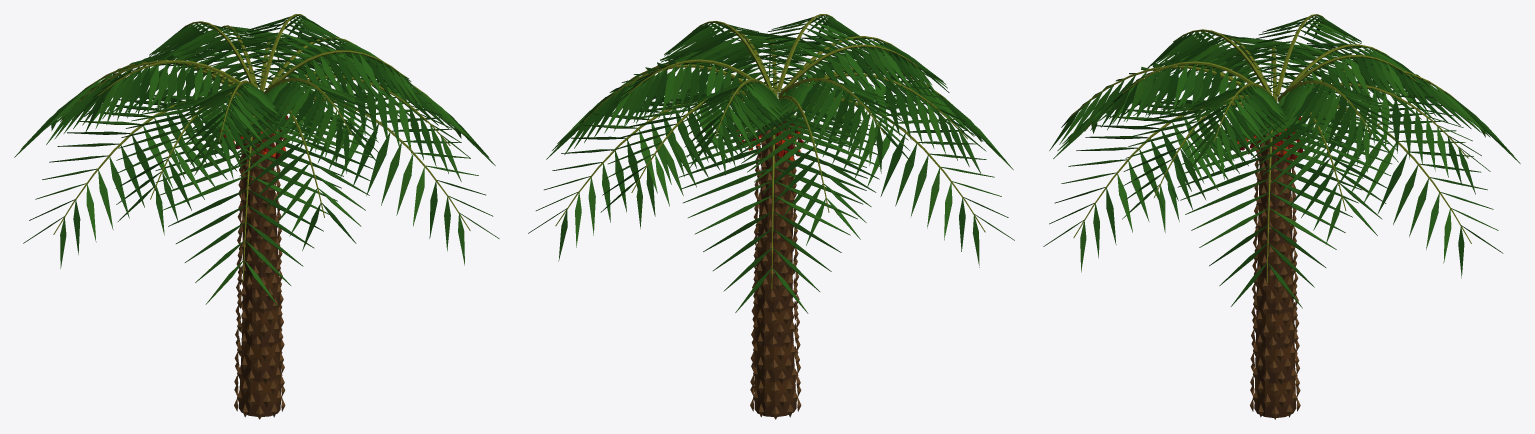
Rendered from palm.dae.
The picture shows the model from 3 angles, left to right: view 1: azimuth 30°, elevation 25°; view 2: azimuth 150°, elevation 25°; view 3: azimuth 270°, elevation 25°; orthographic projection.
Parts seen in each view (by area): view 1: mesh-node; view 2: mesh-node; view 3: mesh-node.
Boxes of the visible parts, x1,y1,x2,y2 form: mesh-node: (14, 14, 499, 419); mesh-node: (528, 14, 1014, 419); mesh-node: (1043, 14, 1520, 419).
Size of the model in its own units: 7.88 by 7.56 by 6.17.
